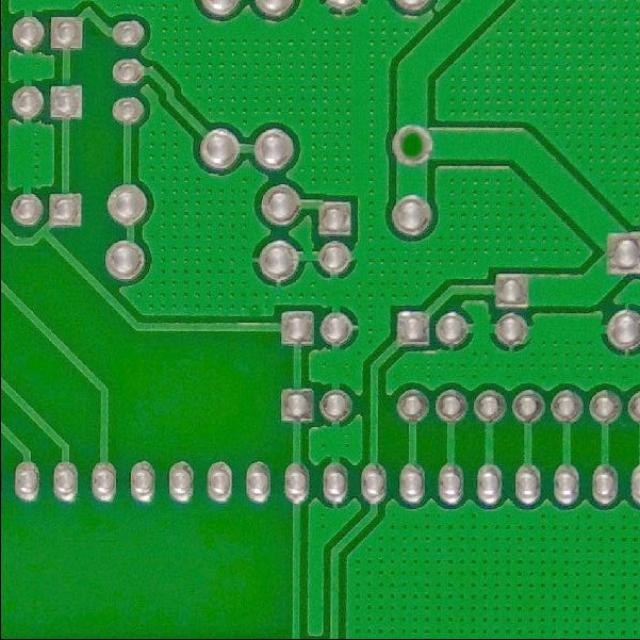Missing_Hole: (386, 120, 438, 170)
